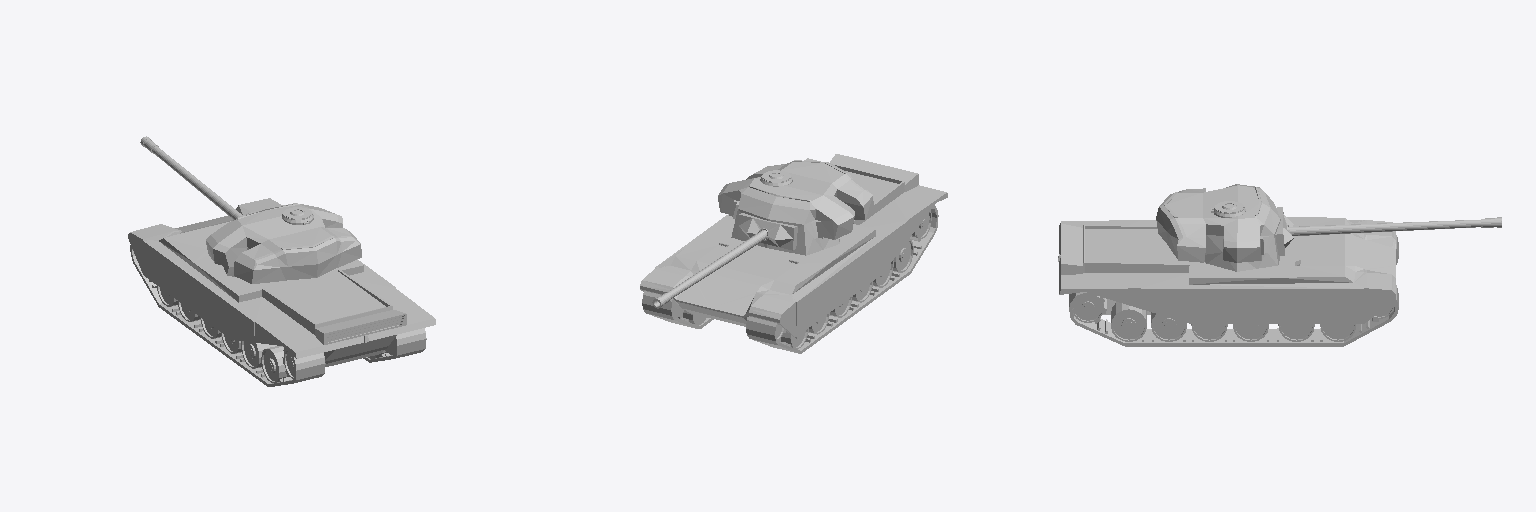
File: tank3.obj
The picture shows the model from 3 angles: view 1: azimuth 30°, elevation 25°; view 2: azimuth 150°, elevation 25°; view 3: azimuth 270°, elevation 25°; orthographic projection.
Visible parts, largest first — view 1: body, turret, track, barrel, wheels1; view 2: body, turret, track, turret_front, barrel; view 3: body, turret, track, barrel, wheels1, wheels_engine, wheels2, wheels3, wheels5.
Part boxes in pixels (x1,y1,x2,y2): body: (128,198,435,366); turret: (206,203,361,283); track: (130,245,426,386); barrel: (140,136,242,219); wheels1: (261,346,387,382); body: (640,154,947,336); turret: (718,160,873,255); track: (642,205,938,353); turret_front: (738,213,797,250); barrel: (652,230,766,308); body: (1058,217,1395,323); turret: (1156,184,1280,271); track: (1069,235,1398,346); barrel: (1288,217,1501,235); wheels1: (1111,302,1146,341); wheels_engine: (1073,295,1106,323); wheels2: (1151,312,1186,341); wheels3: (1191,324,1227,341); wheels5: (1278,324,1314,341).
Bounding box in the file's own units: 1.77 × 1.41 × 4.81.